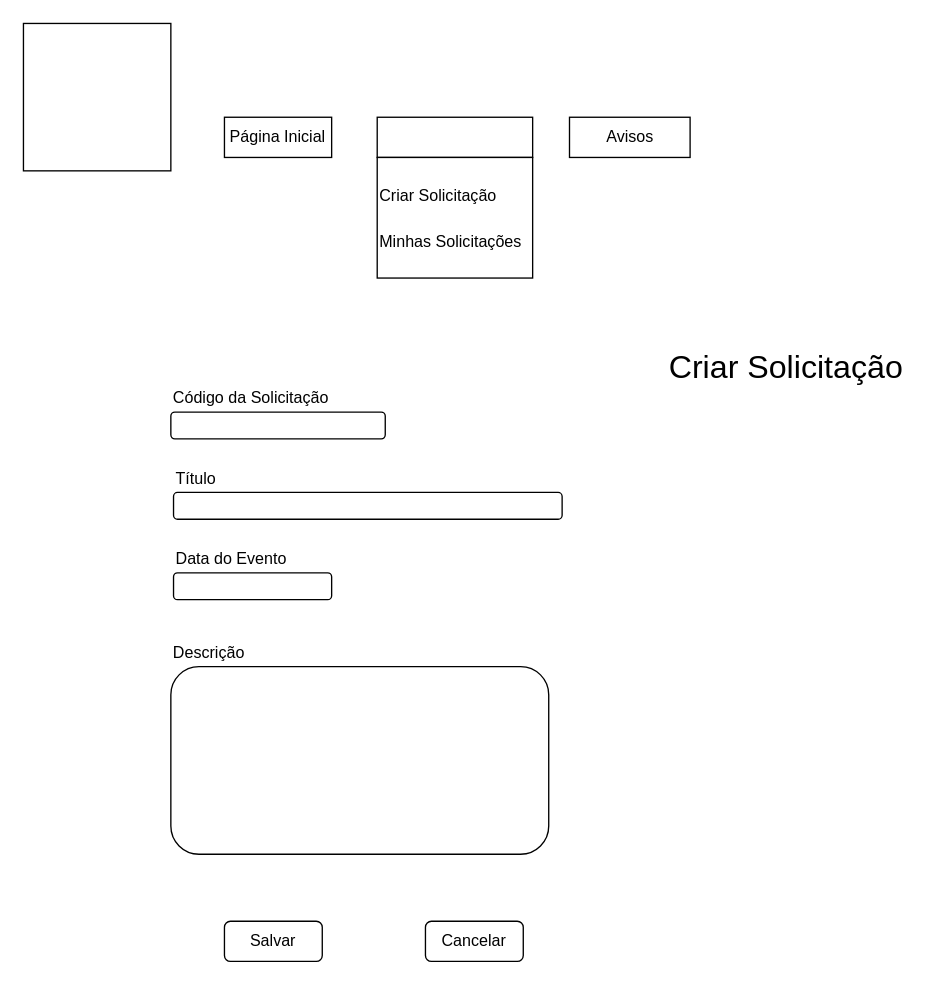
The diagram is 945 pixels wide and 985 high, and some of its shapes have lost their labels. The shapes that lost their labels are listed below. From the top down, each one's centre as x and y in pixels, then its label:
(96,96): Logo
(454,136): Solicitações
